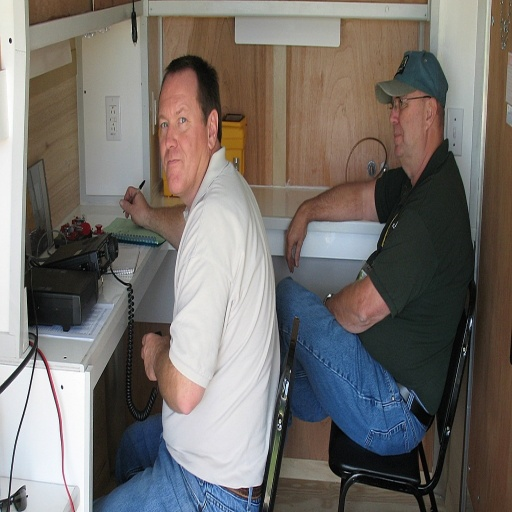hand: (113, 172, 153, 225), (284, 206, 310, 275), (141, 333, 171, 382)
